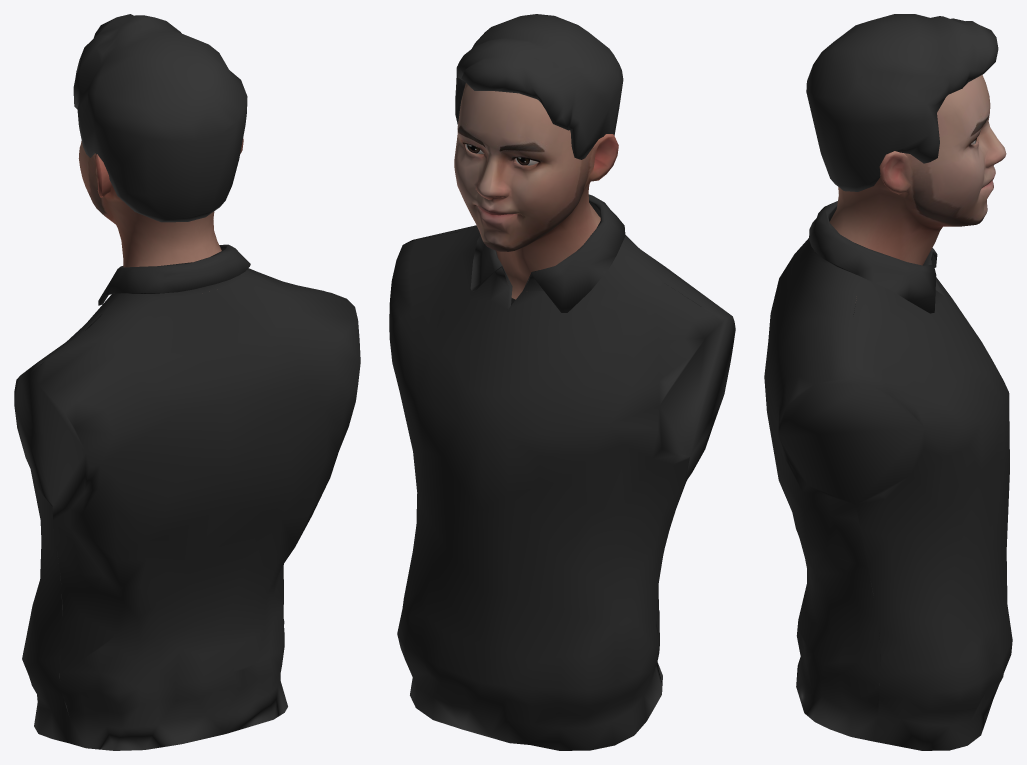
The model's file is male-vr.glb.
The picture shows the model from 3 angles, left to right: view 1: azimuth 30°, elevation 25°; view 2: azimuth 150°, elevation 25°; view 3: azimuth 270°, elevation 25°; orthographic projection.
Parts seen in each view (by area): view 1: Wolf3D_Outfit_Top, Wolf3D_Hair, Wolf3D_Head; view 2: Wolf3D_Outfit_Top, Wolf3D_Head, Wolf3D_Hair; view 3: Wolf3D_Outfit_Top, Wolf3D_Hair, Wolf3D_Head.
Boxes of the visible parts, x1=… form: Wolf3D_Outfit_Top: x1=14, y1=244, x2=360, y2=750; Wolf3D_Hair: x1=73, y1=14, x2=247, y2=222; Wolf3D_Head: x1=78, y1=138, x2=243, y2=267; Wolf3D_Outfit_Top: x1=389, y1=194, x2=735, y2=750; Wolf3D_Head: x1=454, y1=83, x2=618, y2=299; Wolf3D_Hair: x1=455, y1=14, x2=623, y2=159; Wolf3D_Outfit_Top: x1=764, y1=201, x2=1012, y2=750; Wolf3D_Hair: x1=806, y1=14, x2=998, y2=191; Wolf3D_Head: x1=829, y1=75, x2=1006, y2=265.
Size of the model in its own units: 0.4016 by 0.8226 by 0.2708.
Materials: 6 (4 with a texture image).
